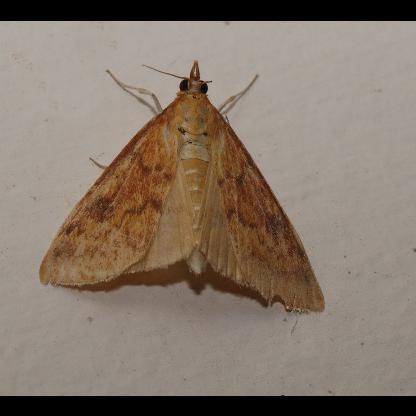Asian Corn Borer Moth: (37, 55, 329, 317)
